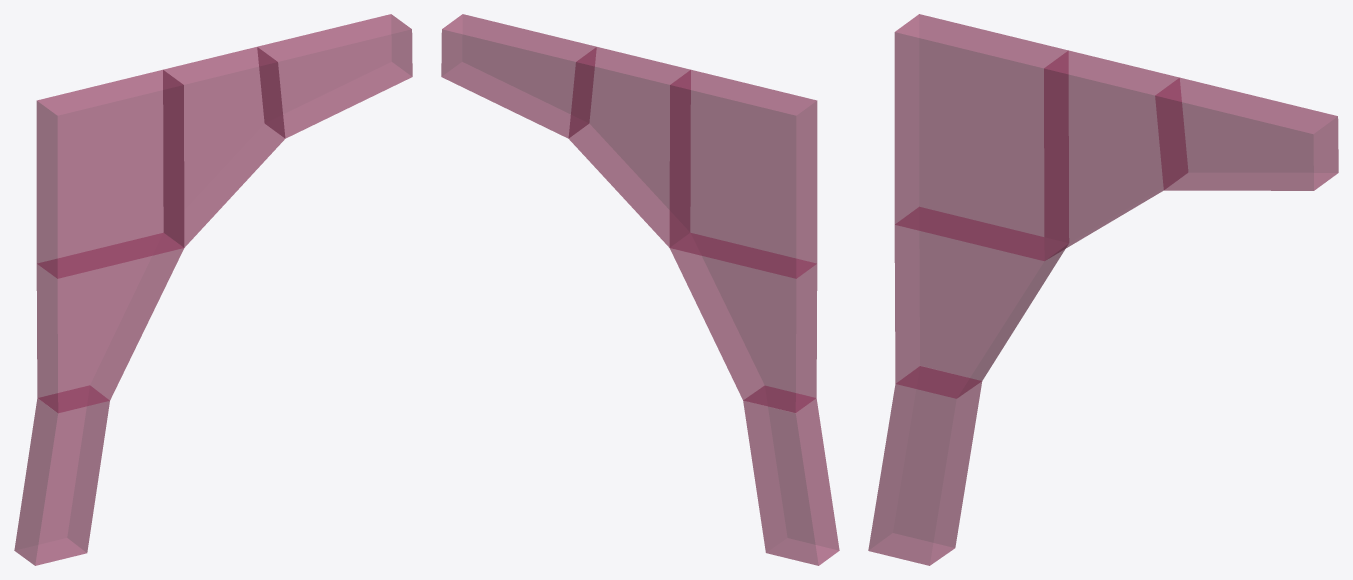
The model's file is SM_Bld_Wall_Arch_Edge_01_Collision.fbx.
The picture shows the model from 3 angles, left to right: view 1: azimuth 30°, elevation 25°; view 2: azimuth 150°, elevation 25°; view 3: azimuth 330°, elevation 25°; orthographic projection. The views are drawn at different scales.
Visible parts, largest first — view 1: SM_Bld_Wall_Arch_Edge_01_Collision; view 2: SM_Bld_Wall_Arch_Edge_01_Collision; view 3: SM_Bld_Wall_Arch_Edge_01_Collision.
Boxes of the visible parts, x1=… form: SM_Bld_Wall_Arch_Edge_01_Collision: x1=14, y1=14, x2=412, y2=565; SM_Bld_Wall_Arch_Edge_01_Collision: x1=441, y1=14, x2=839, y2=565; SM_Bld_Wall_Arch_Edge_01_Collision: x1=868, y1=14, x2=1338, y2=565.
Size of the model in its own units: 269 by 303 by 25.73.
